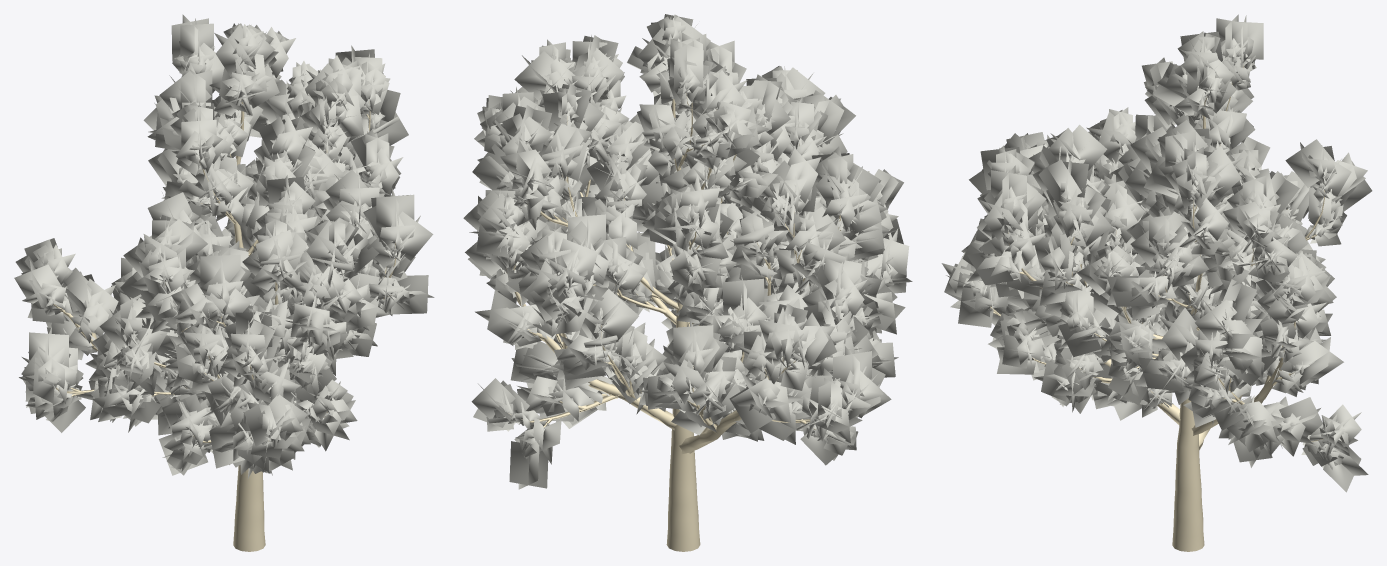
The model's file is oak_large_v1_lod0.glb.
3 renders of one model, left to right at view 1: azimuth 30°, elevation 25°; view 2: azimuth 150°, elevation 25°; view 3: azimuth 270°, elevation 25°, orthographic. The views are drawn at different scales.
Parts seen in each view (by area): view 1: Leaves, Branches; view 2: Leaves, Branches; view 3: Leaves, Branches.
Part boxes in pixels (bbox=[...]): Leaves: bbox=[14, 14, 434, 478]; Branches: bbox=[53, 99, 395, 551]; Leaves: bbox=[463, 14, 912, 489]; Branches: bbox=[506, 91, 840, 551]; Leaves: bbox=[941, 14, 1372, 492]; Branches: bbox=[990, 65, 1324, 551].
Size of the model in its own units: 80.9 by 105 by 80.2.
